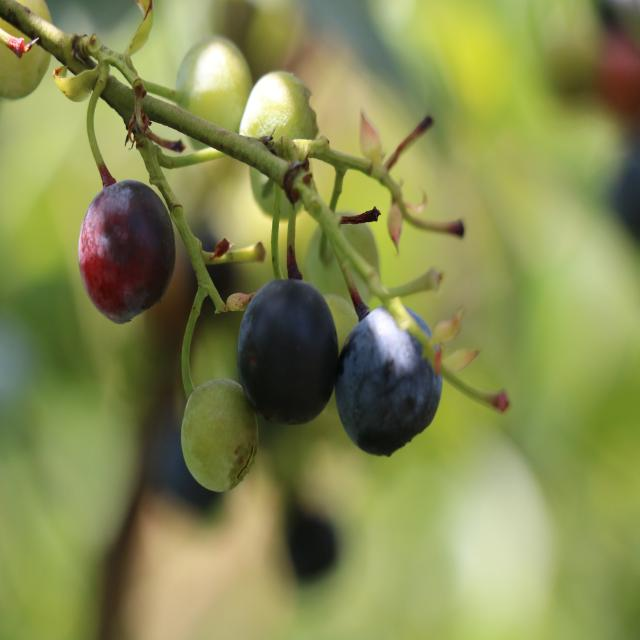blueberry: (334, 295, 444, 460), (236, 275, 338, 425)
blueberry-halfripe: (77, 181, 177, 325)
blueberry-unripe: (236, 60, 316, 166), (180, 376, 255, 488), (178, 36, 248, 148), (307, 201, 381, 299)
